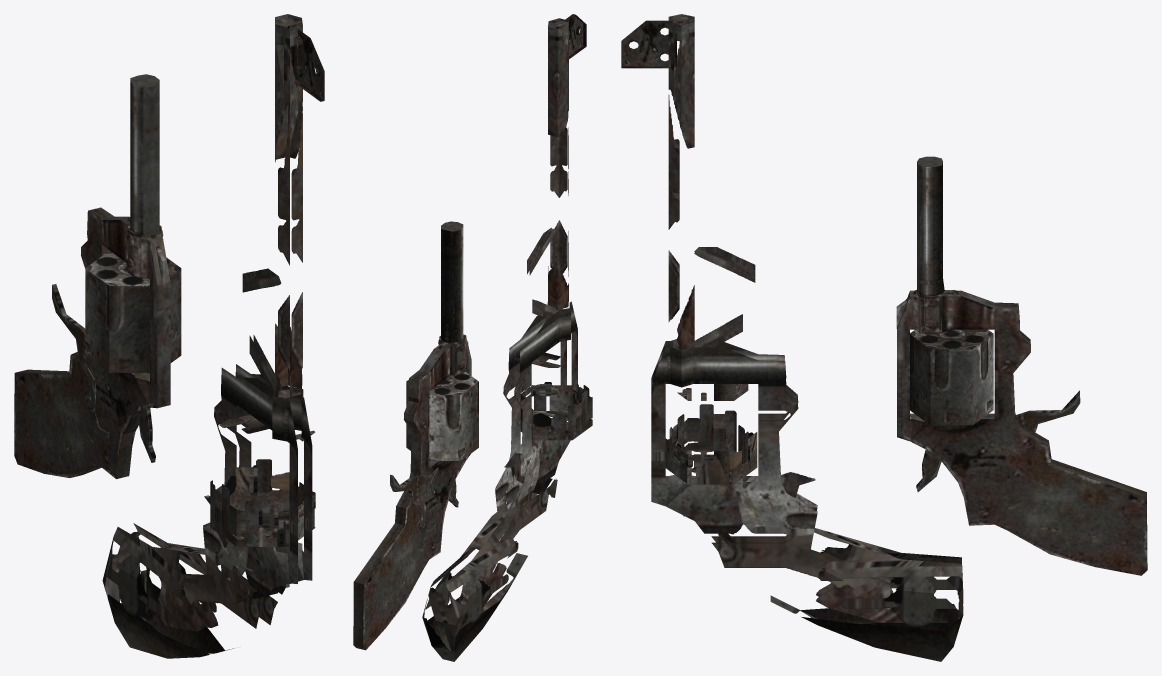
File: demo.fbx
3 views of the same model, side by side, from view 1: azimuth 30°, elevation 25°; view 2: azimuth 150°, elevation 25°; view 3: azimuth 270°, elevation 25° (orthographic). The views are drawn at different scales.
Parts seen in each view (by area): view 1: Cylinder.006, Cylinder.001; view 2: Cylinder.006, Cylinder.001; view 3: Cylinder.006, Cylinder.001.
Part boxes in pixels (x1,y1,x2,y2): Cylinder.006: (102, 14, 324, 658); Cylinder.001: (14, 74, 181, 479); Cylinder.006: (422, 14, 592, 661); Cylinder.001: (353, 221, 478, 650); Cylinder.006: (621, 14, 963, 661); Cylinder.001: (896, 156, 1147, 575).
Size of the model in its own units: 31.18 by 261 by 194.
